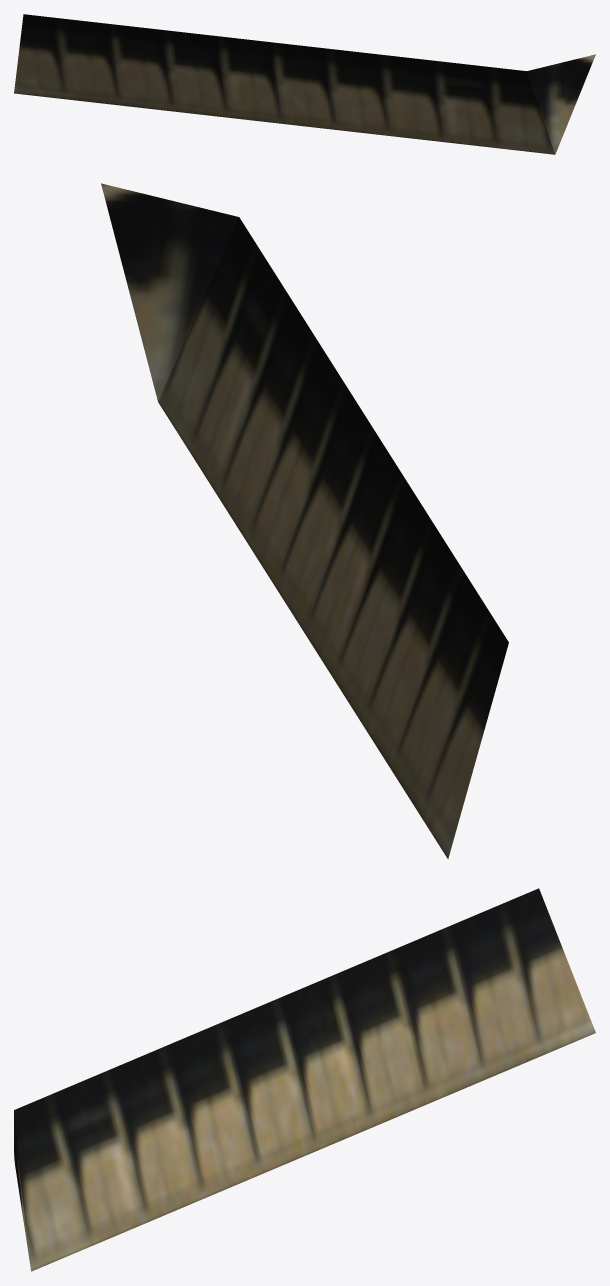
The model's file is 埃菲尔铁塔31.dae.
3 renders of one model, top to bottom at view 1: azimuth 30°, elevation 25°; view 2: azimuth 150°, elevation 25°; view 3: azimuth 270°, elevation 25°, orthographic. The views are drawn at different scales.
Visible parts, largest first — view 1: SketchUp; view 2: SketchUp; view 3: SketchUp.
Boxes of the visible parts, bbox=[...] form: SketchUp: bbox=[14, 14, 595, 154]; SketchUp: bbox=[101, 183, 508, 859]; SketchUp: bbox=[14, 888, 595, 1271].
Size of the model in its own units: 1134 by 1033 by 269.
Materials: 1 (1 with a texture image).
